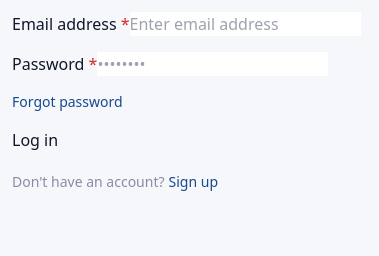
Test: LoginForm › hiển thị lỗi accessible khi submit dữ liệu rỗng
The image size is (379, 256).
Click the button "Log in" at {"x": 43, "y": 140}, box [12, 128, 74, 152]
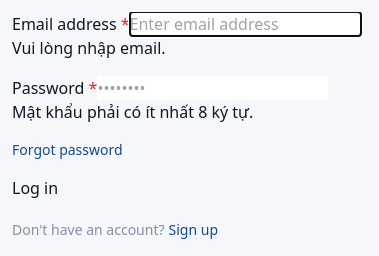
expect the text "Vui lòng nhập email." is shown: met, box [12, 37, 166, 59]
expect the text "Mật khẩu phải có ít nhất 8 ký tự." is shown: met, box [12, 101, 253, 123]
